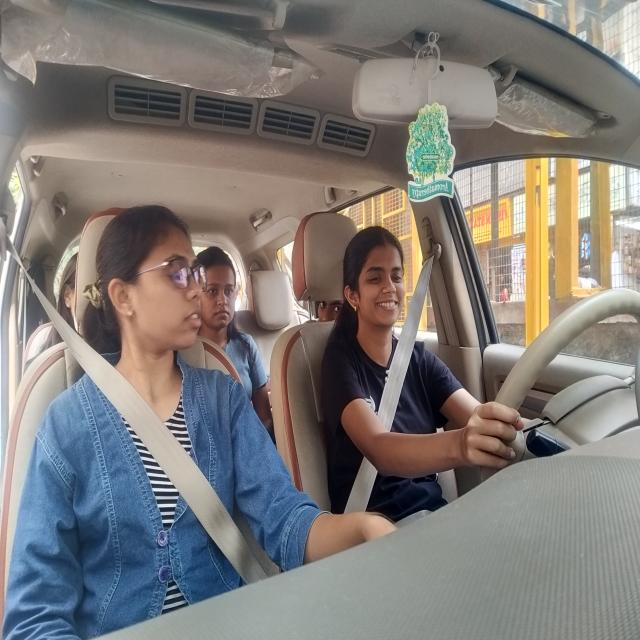person: (97, 196, 211, 367), (336, 209, 414, 355), (196, 224, 246, 354)
